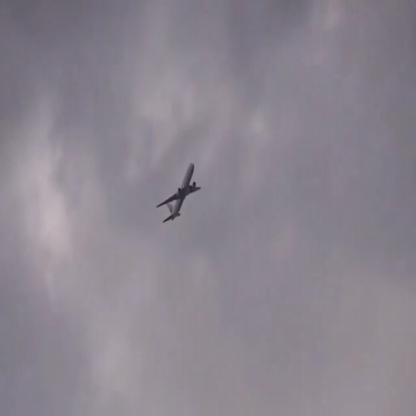CIV_Plane: (156, 164, 205, 224)
